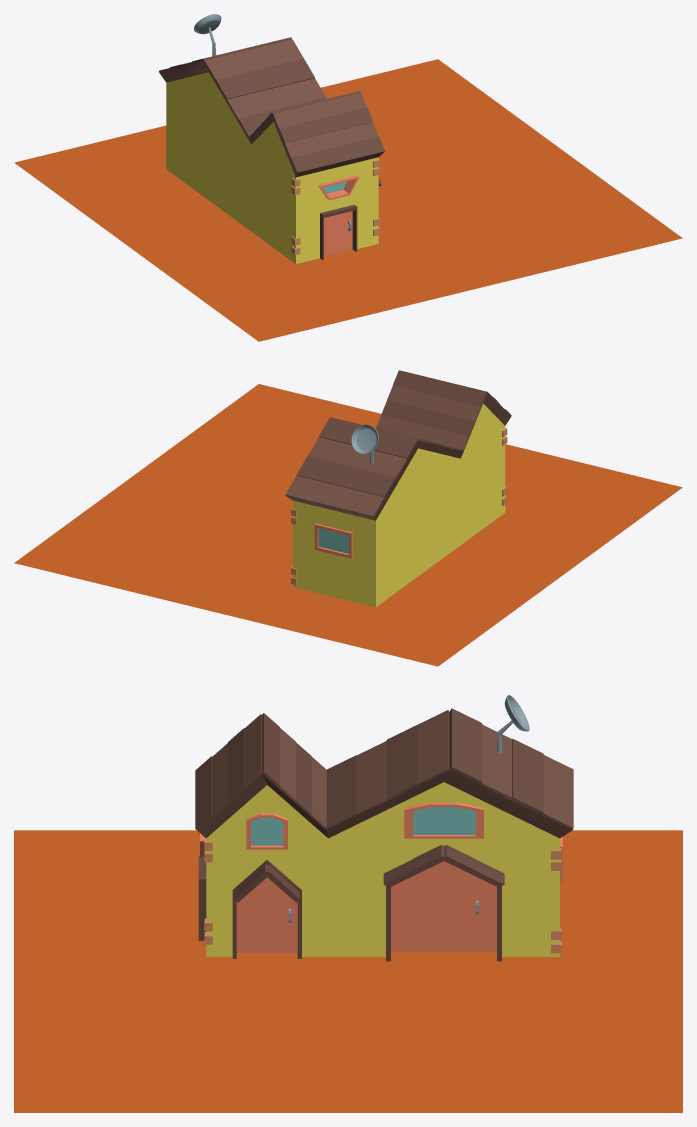
The model's file is casa_cartoon_lowpoly_house.glb.
The picture shows the model from 3 angles, top to bottom: view 1: azimuth 30°, elevation 25°; view 2: azimuth 150°, elevation 25°; view 3: azimuth 270°, elevation 25°; orthographic projection. The views are drawn at different scales.
Visible parts, largest first — view 1: Plane, Cube.001; view 2: Plane, Cube.001; view 3: Plane, Cube.001.
Boxes of the visible parts, x1,y1,x2,y2 form: Plane: (14,59,682,341); Cube.001: (159,14,384,263); Plane: (14,384,682,666); Cube.001: (285,370,511,607); Plane: (14,830,682,1112); Cube.001: (195,695,573,961).
Size of the model in its own units: 15.12 by 5.53 by 15.12.
8 materials, 7 textured.
